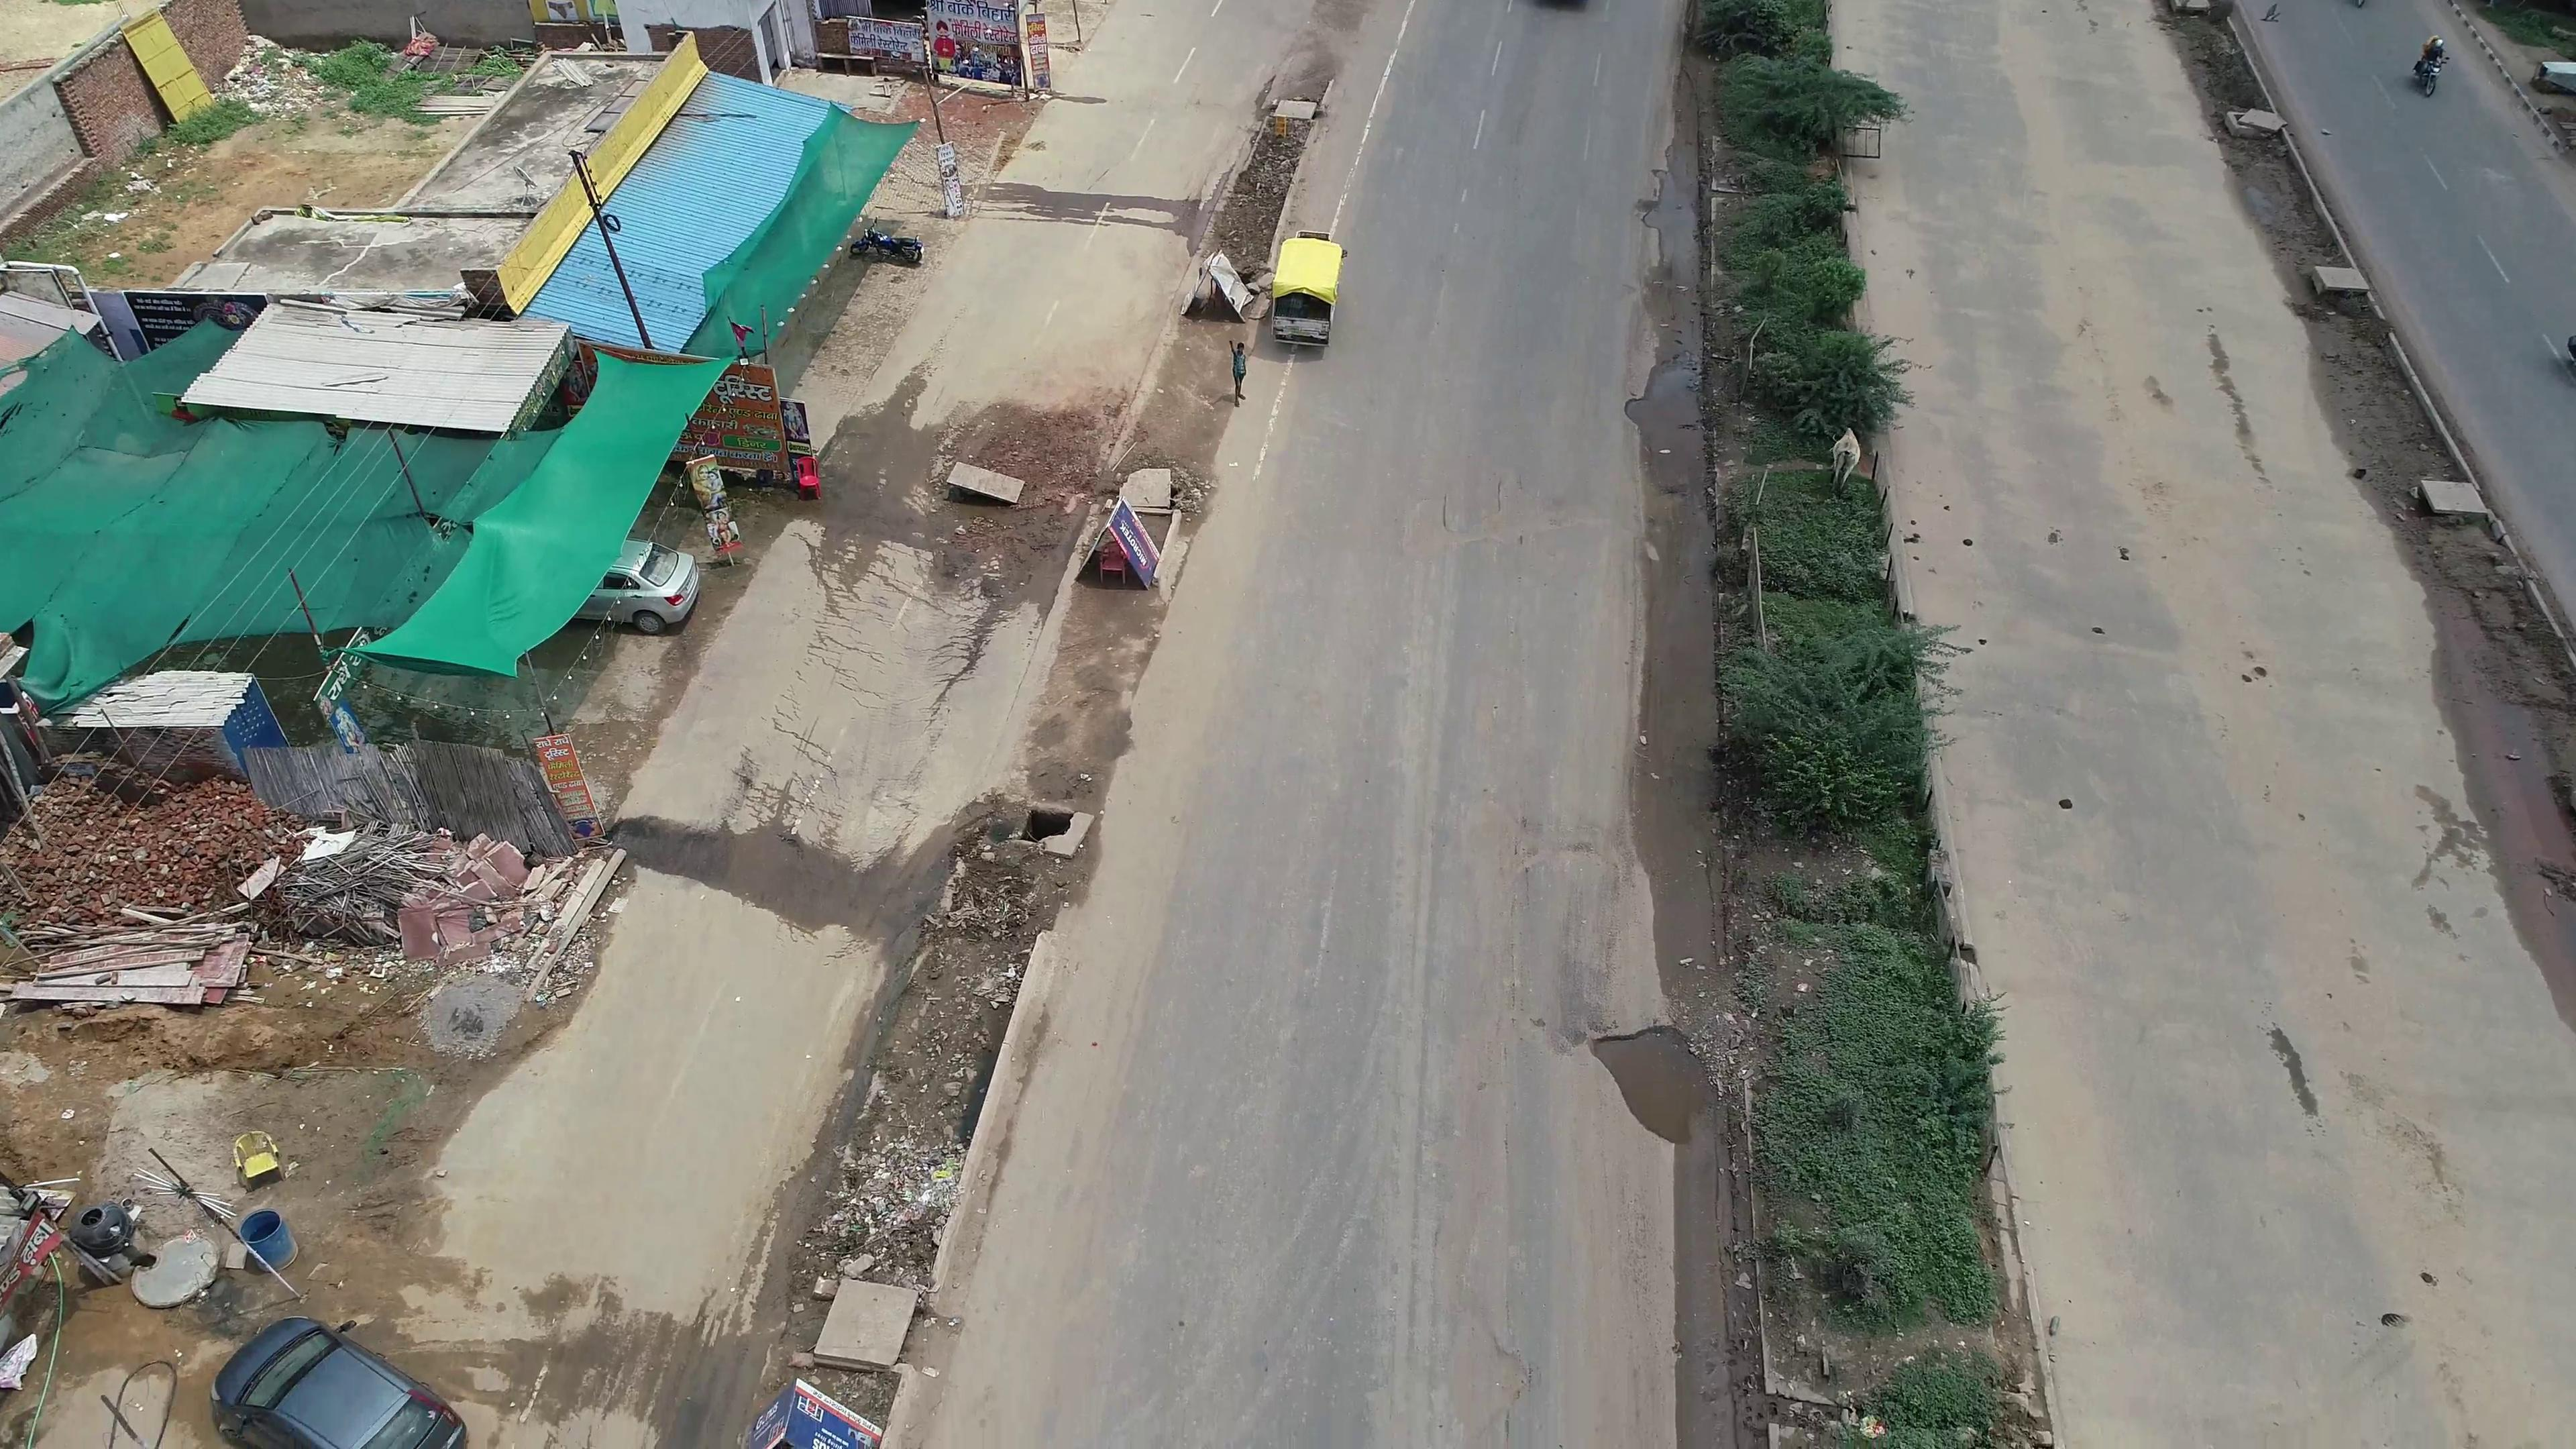Potholes: (1562, 1008, 1683, 1171)
